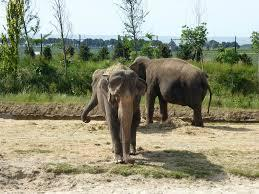elephant: (81, 57, 210, 162)
